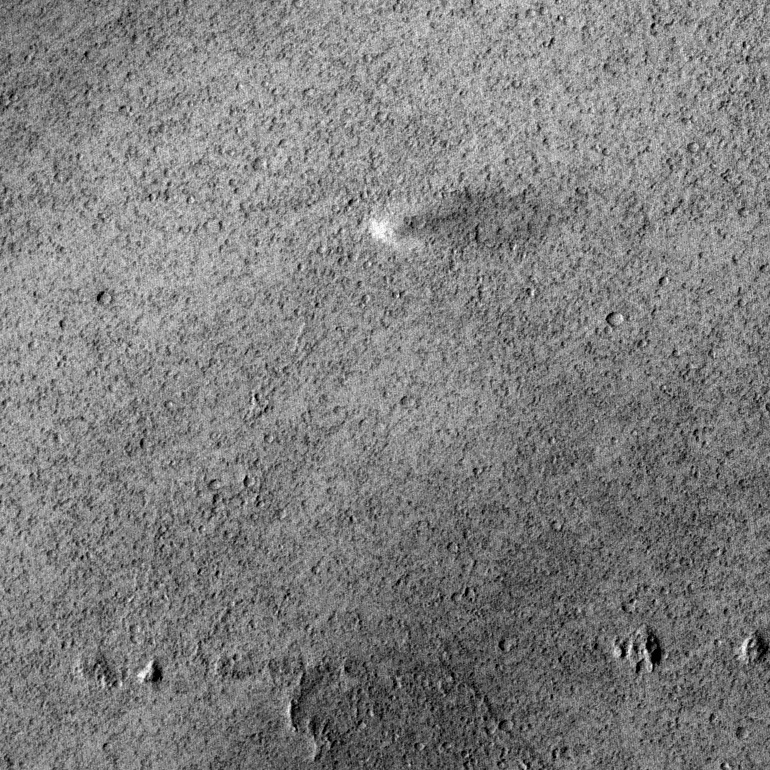dust_devil: (364, 185, 552, 254)
